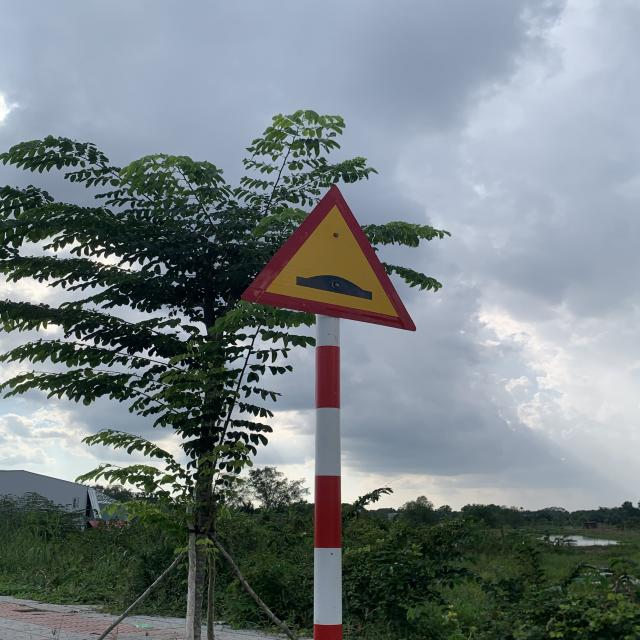Duong_Cong_Ben_Phai: (240, 188, 420, 331)
